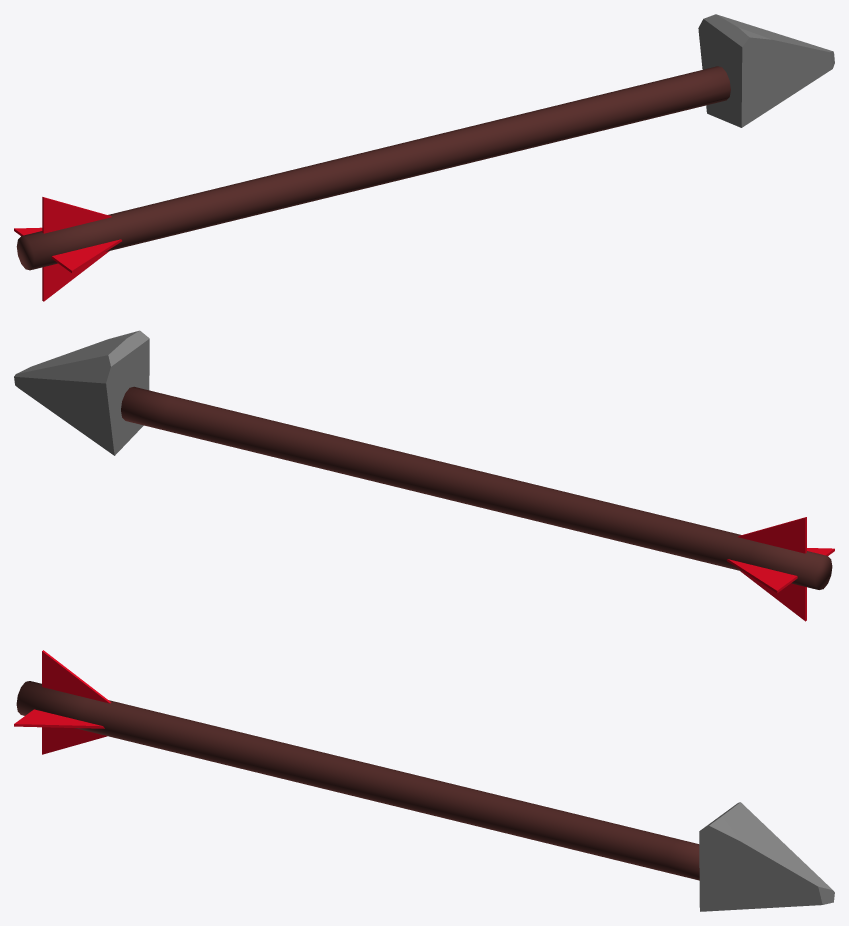
Rendered from flecha.fbx.
3 renders of one model, top to bottom at view 1: azimuth 30°, elevation 25°; view 2: azimuth 150°, elevation 25°; view 3: azimuth 330°, elevation 25°, orthographic.
Visible parts, largest first — view 1: NurbsPath; view 2: NurbsPath; view 3: NurbsPath.
Boxes of the visible parts, box(x1,y1,x2,y2) form: NurbsPath: box(14, 14, 834, 301); NurbsPath: box(14, 330, 834, 621); NurbsPath: box(14, 650, 834, 911).
Size of the model in its own units: 106 by 13.79 by 13.1.
